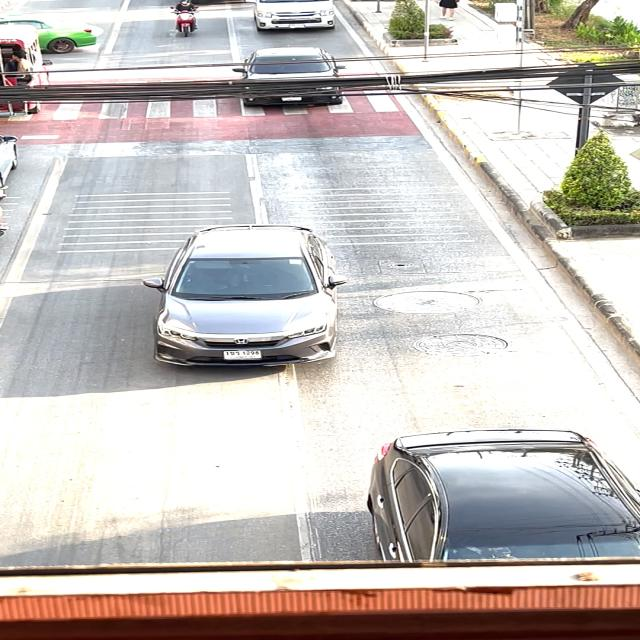car: (123, 204, 371, 391), (335, 404, 640, 556), (232, 39, 348, 114), (247, 0, 341, 37)
